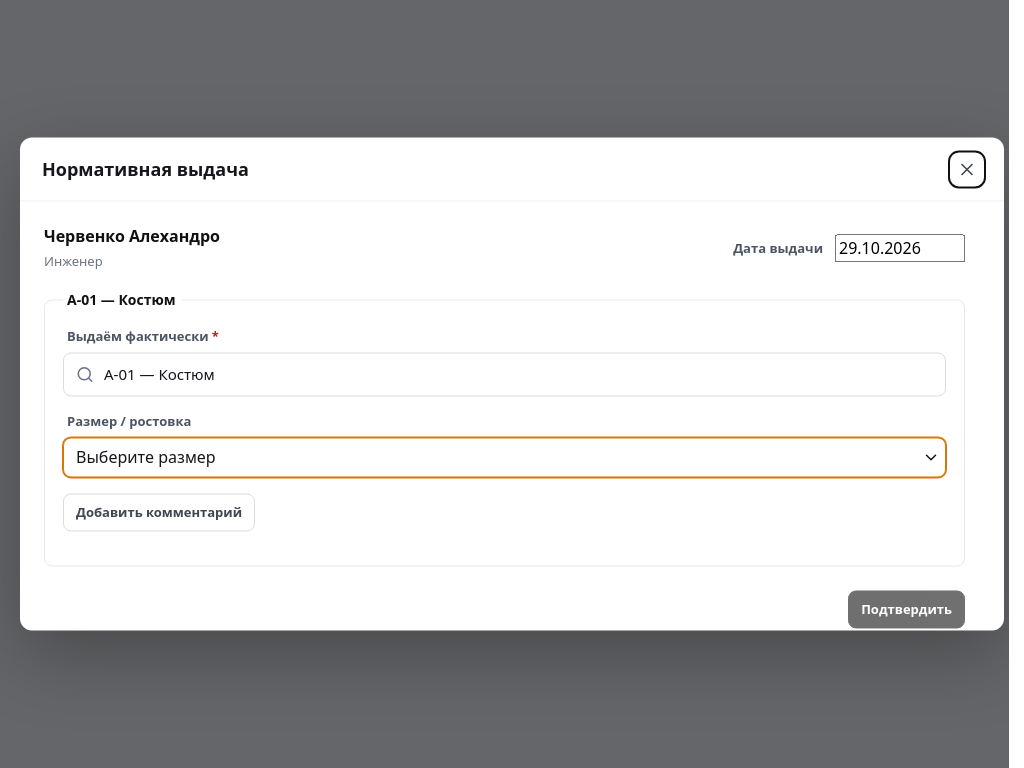
PPE issue form › does not auto-select a size when there is no match
Expected: the button "Подтвердить" is disabled, top-left (848, 586), bottom-right (965, 624)
Select "88–92; 170–176" in the dropdown labelled "Размер / ростовка" at [504, 440], box top-left (63, 408), bottom-right (946, 473)
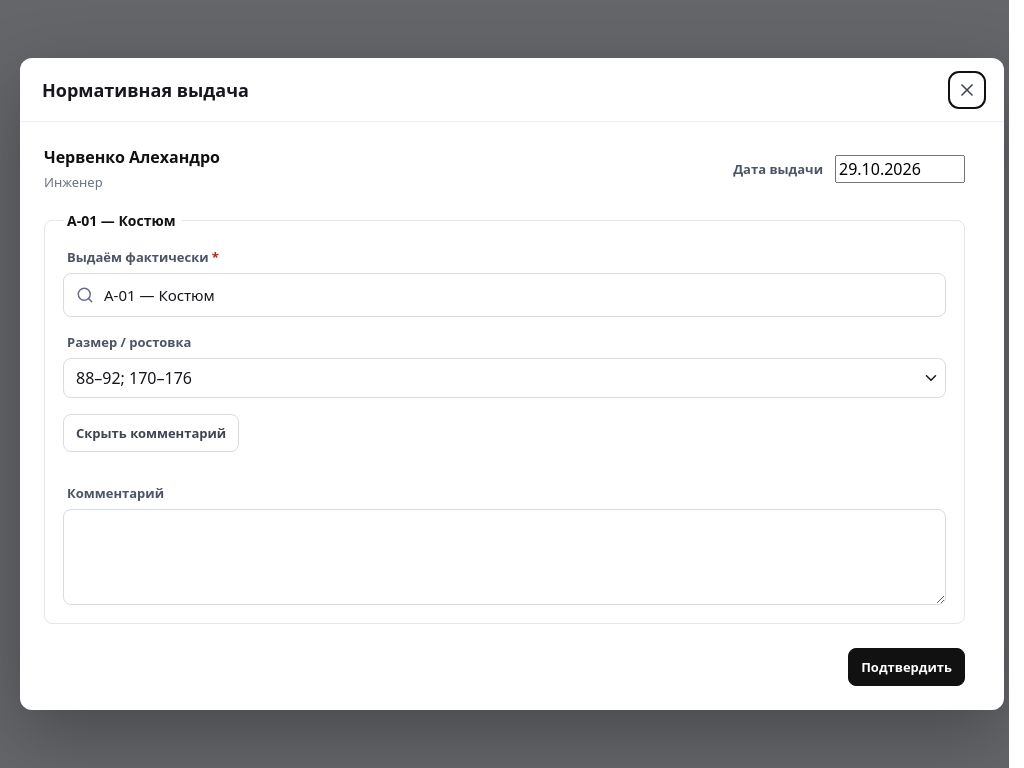
Expected: the button "Подтвердить" is enabled, top-left (848, 648), bottom-right (965, 686)
